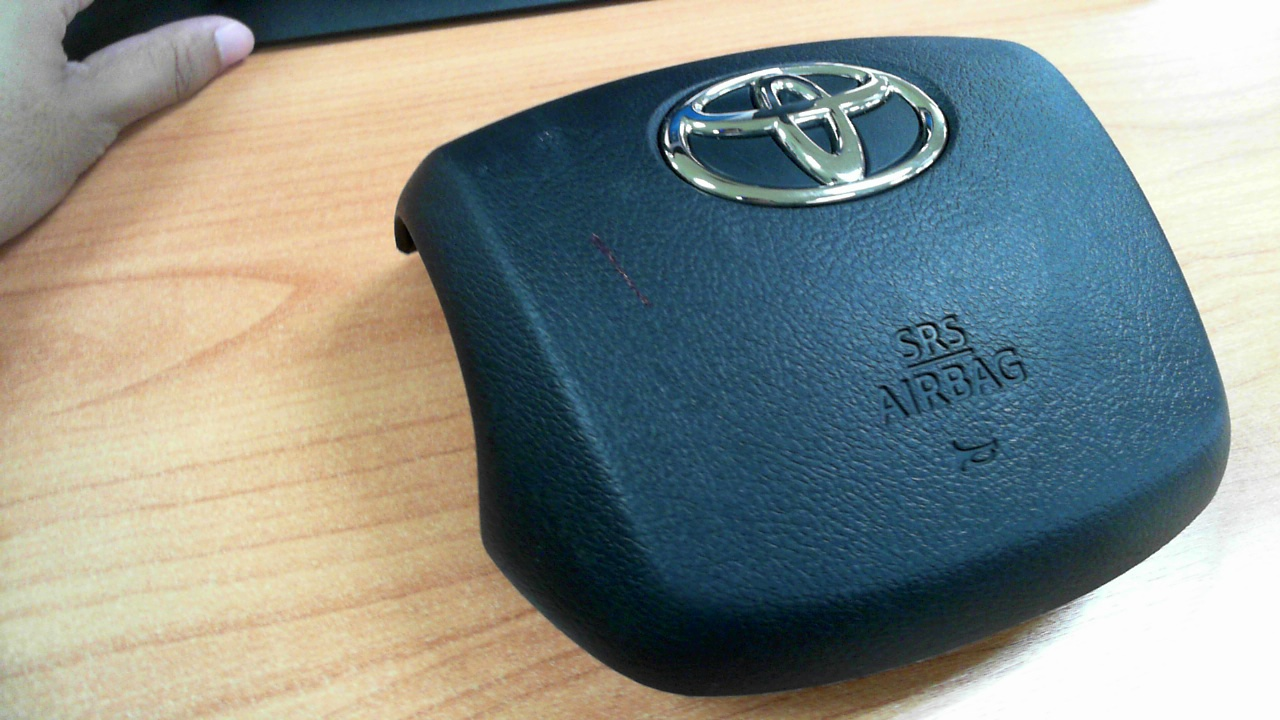Airbag: (394, 34, 1234, 696)
Toyota: (664, 61, 948, 206)
